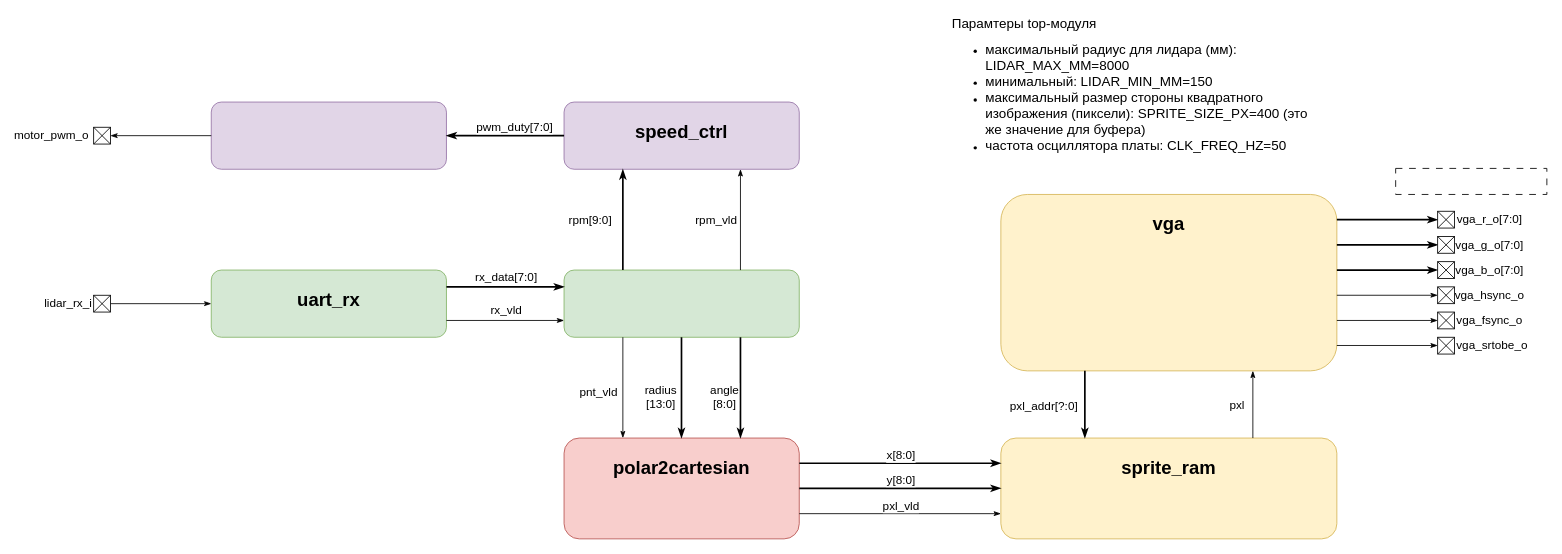
Some shapes in this 1562 by 554 pixel diagram are drawn without their labels. Each missing label, with the box of its shape:
+vga_blank_n_o, vga_sync_n_o,: (1395, 168, 1547, 194)
packet_tokenizer: (563, 269, 799, 337)
pwm_gen: (210, 101, 446, 169)
